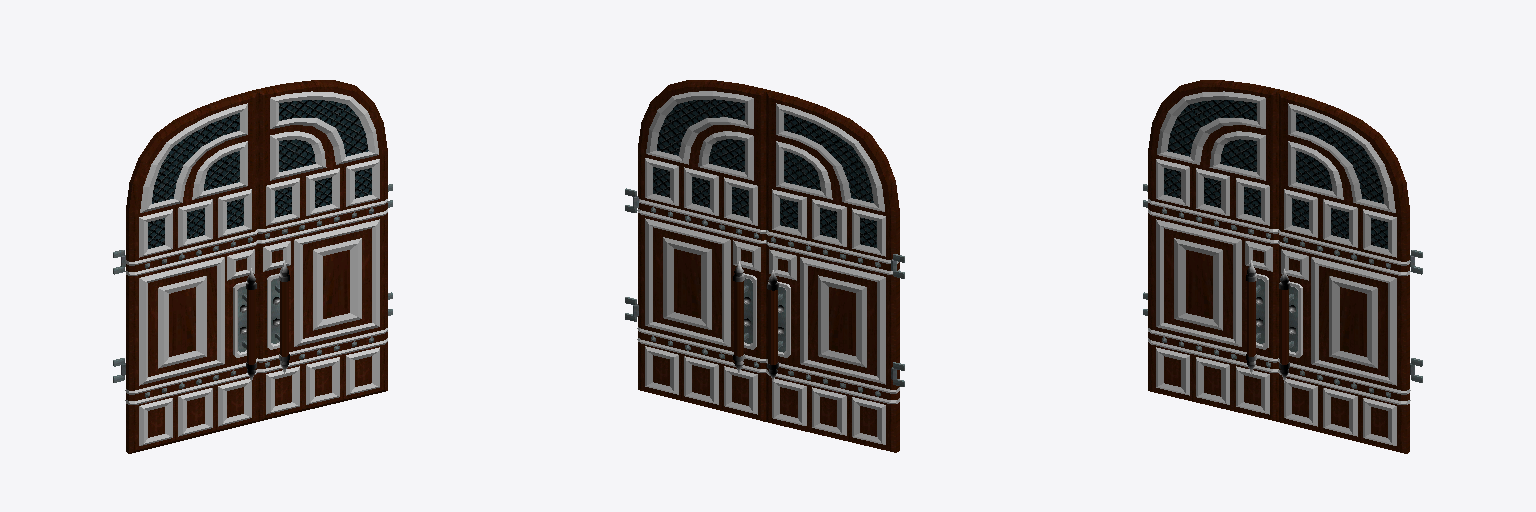
3 renders of one model, left to right at view 1: azimuth 30°, elevation 25°; view 2: azimuth 150°, elevation 25°; view 3: azimuth 330°, elevation 25°, orthographic.
Parts seen in each view (by area): view 1: wood2LP woodstep, wood2RP woodstep3, wood2LD, wood2RD, wood2LP, wood2RP, wood2RP woodstep3 lattice1, wood2LP woodstep lattice, wood2LD woodstep2, wood2RD woodstep1, wood2RH, wood2LH; view 2: wood2LP woodstep, wood2RP woodstep3, wood2LD, wood2RD, wood2RP, wood2LP, wood2LP woodstep lattice, wood2RP woodstep3 lattice1, wood2LD woodstep2, wood2RD woodstep1, wood2RH, wood2LH (+1 smaller); view 3: wood2RP woodstep3, wood2LP woodstep, wood2RD, wood2LD, wood2RP, wood2LP, wood2LP woodstep lattice, wood2RP woodstep3 lattice1, wood2RD woodstep1, wood2LD woodstep2, wood2RH, wood2LH.
Part boxes in pixels (x1,y1,x2,y2): wood2LP woodstep: (139, 103, 254, 445); wood2RP woodstep3: (263, 91, 379, 414); wood2LD: (126, 90, 256, 453); wood2RD: (255, 80, 387, 421); wood2LP: (148, 258, 246, 437); wood2RP: (272, 228, 371, 405); wood2RP woodstep3 lattice1: (275, 100, 371, 217); wood2LP woodstep lattice: (148, 113, 243, 248); wood2LD woodstep2: (125, 230, 257, 404); wood2RD woodstep1: (257, 199, 387, 372); wood2RH: (280, 281, 288, 356); wood2LH: (247, 289, 255, 364); wood2LP woodstep: (769, 103, 885, 444); wood2RP woodstep3: (645, 91, 760, 414); wood2LD: (766, 90, 899, 452); wood2RD: (638, 80, 768, 421); wood2RP: (653, 227, 751, 405); wood2LP: (778, 259, 876, 436); wood2LP woodstep lattice: (780, 113, 876, 247); wood2RP woodstep3 lattice1: (653, 99, 748, 217); wood2LD woodstep2: (766, 230, 899, 403); wood2RD woodstep1: (637, 199, 765, 372); wood2RH: (734, 281, 743, 356); wood2LH: (768, 290, 777, 364); wood2RP woodstep3: (1281, 103, 1396, 445); wood2LP woodstep: (1156, 91, 1272, 414); wood2RD: (1279, 90, 1409, 453); wood2LD: (1148, 80, 1280, 421); wood2RP: (1289, 258, 1387, 437); wood2LP: (1164, 228, 1263, 405); wood2LP woodstep lattice: (1164, 100, 1260, 217); wood2RP woodstep3 lattice1: (1292, 113, 1387, 248); wood2RD woodstep1: (1278, 230, 1410, 404); wood2LD woodstep2: (1148, 199, 1278, 372); wood2RH: (1280, 289, 1288, 364); wood2LH: (1247, 281, 1255, 356).
Bounding box in the file's own units: 540 × 610 × 99.49.
Materials: 5 (4 with a texture image).